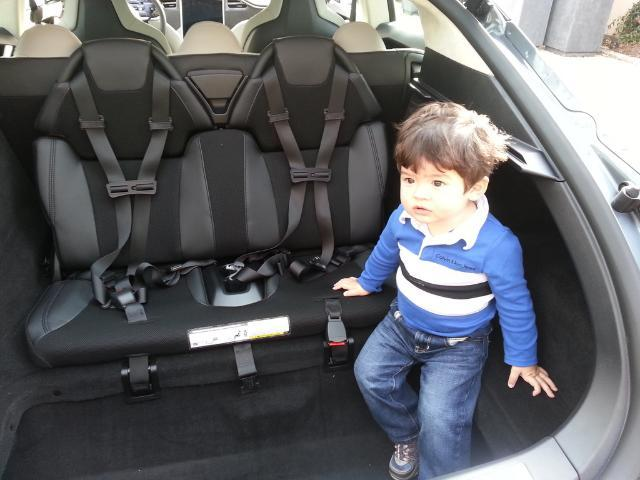SafeDriving: (397, 162, 421, 186), (426, 170, 451, 190)
Seatbelt: (60, 63, 194, 321), (220, 62, 370, 282)
